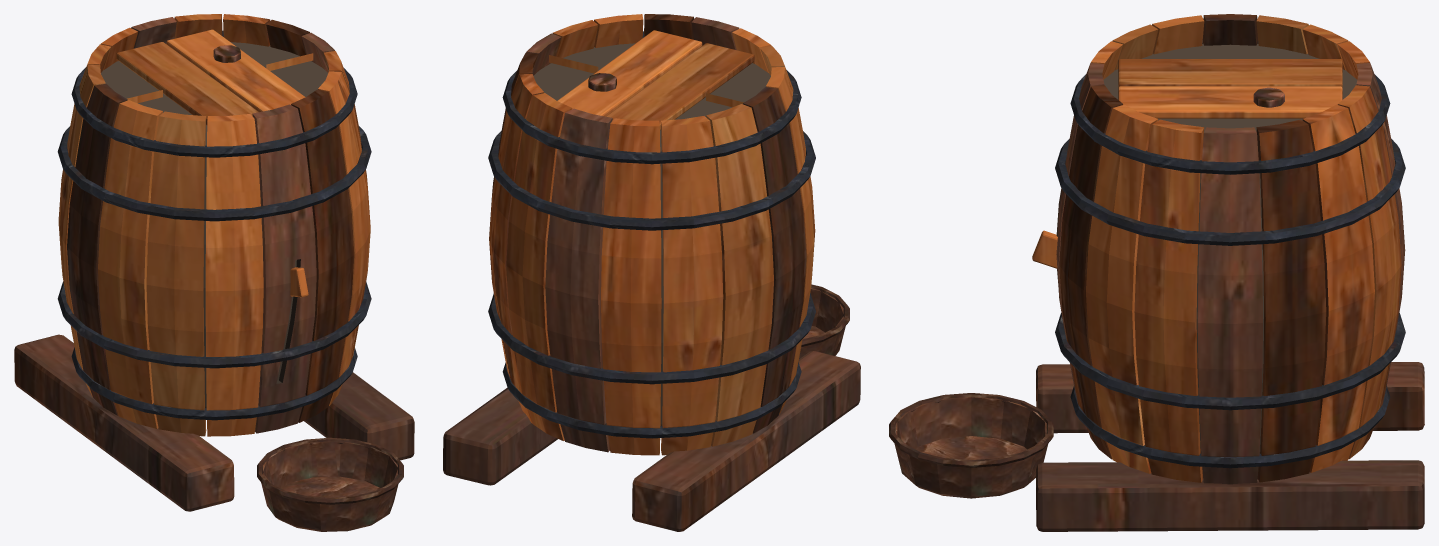
Rendered from lw_leaking_oil_cask.glb.
The picture shows the model from 3 angles, left to right: view 1: azimuth 30°, elevation 25°; view 2: azimuth 150°, elevation 25°; view 3: azimuth 270°, elevation 25°; orthographic projection. The views are drawn at different scales.
Parts seen in each view (by area): view 1: model; view 2: model; view 3: model.
Part boxes in pixels (x1,y1,x2,y2): model: (14, 14, 414, 531); model: (443, 14, 860, 531); model: (889, 14, 1424, 531).
Size of the model in its own units: 0.542 by 0.6774 by 0.8273.
Materials: 11 (9 with a texture image).
